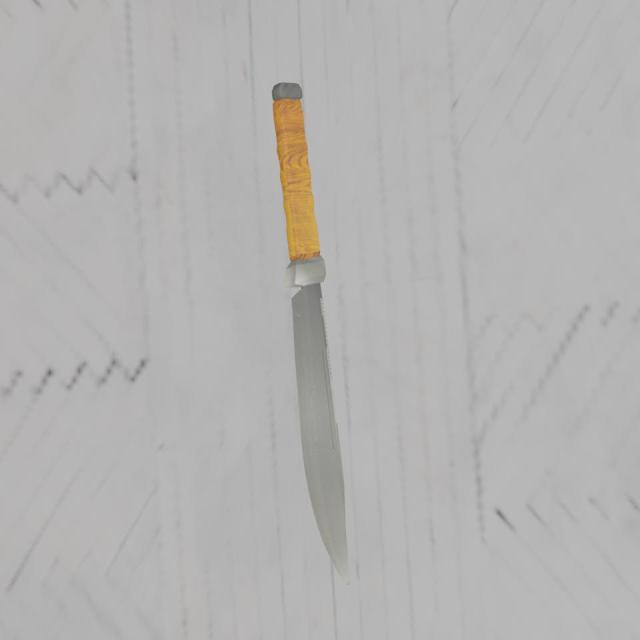knife: (274, 84, 325, 289)
